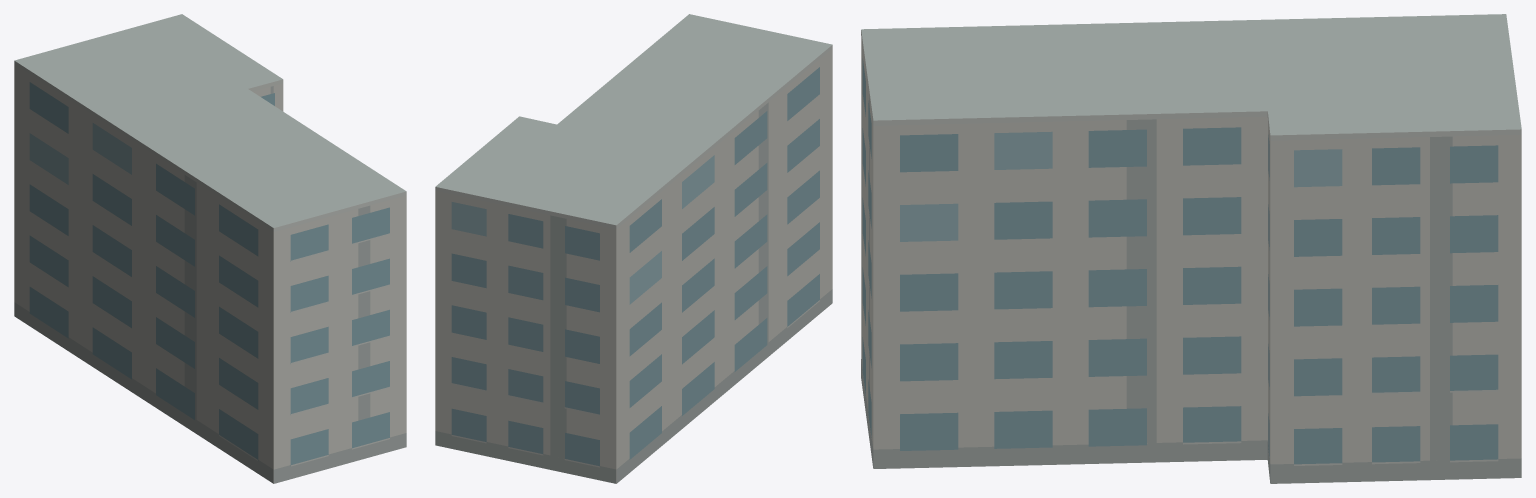
File: survey-upis-32637697.glb
3 renders of one model, left to right at view 1: azimuth 30°, elevation 25°; view 2: azimuth 150°, elevation 25°; view 3: azimuth 270°, elevation 25°, orthographic. The views are drawn at different scales.
Visible parts, largest first — view 1: survey-upis-32637697.tmp; view 2: survey-upis-32637697.tmp; view 3: survey-upis-32637697.tmp.
Part boxes in pixels (x1=…): survey-upis-32637697.tmp: x1=14, y1=14, x2=406, y2=483; survey-upis-32637697.tmp: x1=435, y1=14, x2=832, y2=483; survey-upis-32637697.tmp: x1=861, y1=14, x2=1521, y2=483.
Bounding box in the file's own units: 11.59 × 15.5 × 26.64.
